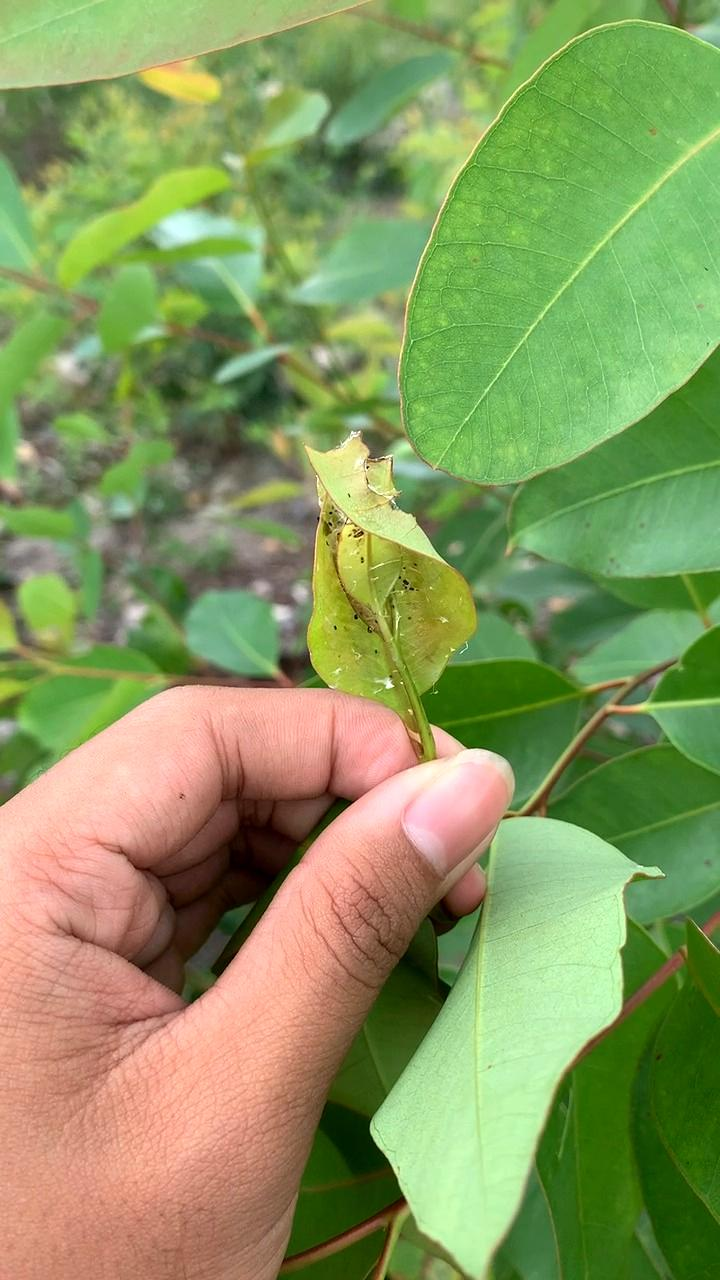Leaf Roller - Leaf: (290, 433, 487, 713)
